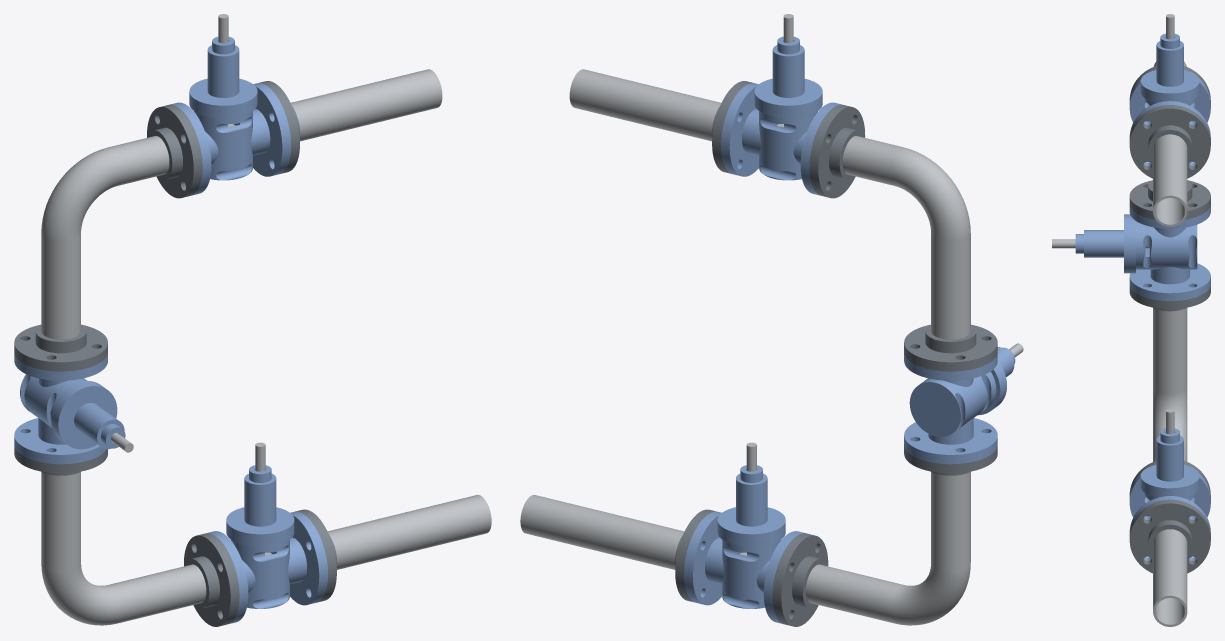
The model's file is step_34.glb.
The picture shows the model from 3 angles, left to right: view 1: azimuth 30°, elevation 25°; view 2: azimuth 150°, elevation 25°; view 3: azimuth 270°, elevation 25°; orthographic projection. The views are drawn at different scales.
Visible parts, largest first — view 1: part__body top valve, part__body bottom valve, part__bottom pipe, outlet, 360 long, part__top pipe, outlet, 335 long, part__body riser valve, part__bend 2 (top), part__riser pipe, upper, 230 long, part__riser pipe, lower, 70 long, part__bonnet riser valve, part__bottom pipe, inlet, 210 long, part__flange bottom, inlet, part__flange top, inlet (+8 smaller); view 2: part__body riser valve, part__body bottom valve, part__body top valve, part__bottom pipe, outlet, 360 long, part__top pipe, outlet, 335 long, part__bend 2 (top), part__riser pipe, upper, 230 long, part__riser pipe, lower, 70 long, part__bottom pipe, inlet, 210 long, part__flange bottom, inlet, part__flange top, inlet, part__flange riser, outlet (+7 smaller); view 3: part__body riser valve, part__flange top, outlet, part__flange bottom, outlet, part__bottom pipe, outlet, 360 long, part__top pipe, outlet, 335 long, part__riser pipe, lower, 70 long, part__bonnet bottom valve, part__bonnet top valve, part__body top valve, part__body bottom valve, part__bonnet riser valve, part__flange riser, outlet (+5 smaller).
Part boxes in pixels (bbox=[...]): part__body top valve: bbox=[170, 83, 291, 195]; part__body bottom valve: bbox=[207, 511, 327, 623]; part__bottom pipe, outlet, 360 long: bbox=[327, 495, 491, 569]; part__top pipe, outlet, 335 long: bbox=[291, 69, 442, 141]; part__body riser valve: bbox=[14, 353, 107, 464]; part__bend 2 (top): bbox=[41, 147, 122, 241]; part__riser pipe, upper, 230 long: bbox=[41, 234, 80, 339]; part__riser pipe, lower, 70 long: bbox=[41, 472, 80, 571]; part__bonnet riser valve: bbox=[55, 383, 125, 449]; part__bottom pipe, inlet, 210 long: bbox=[109, 564, 206, 622]; part__flange bottom, inlet: bbox=[184, 533, 239, 626]; part__flange top, inlet: bbox=[147, 104, 202, 198]; part__body riser valve: bbox=[904, 352, 1003, 464]; part__body bottom valve: bbox=[684, 511, 805, 623]; part__body top valve: bbox=[721, 83, 841, 195]; part__bottom pipe, outlet, 360 long: bbox=[520, 495, 684, 569]; part__top pipe, outlet, 335 long: bbox=[569, 69, 721, 141]; part__bend 2 (top): bbox=[889, 147, 970, 241]; part__riser pipe, upper, 230 long: bbox=[931, 233, 970, 339]; part__riser pipe, lower, 70 long: bbox=[931, 472, 970, 571]; part__bottom pipe, inlet, 210 long: bbox=[805, 564, 903, 623]; part__flange bottom, inlet: bbox=[772, 533, 828, 626]; part__flange top, inlet: bbox=[809, 104, 865, 198]; part__flange riser, outlet: bbox=[904, 324, 997, 371]; part__body riser valve: bbox=[1129, 205, 1210, 301]; part__flange top, outlet: bbox=[1129, 105, 1210, 178]; part__flange bottom, outlet: bbox=[1129, 499, 1210, 573]; part__bottom pipe, outlet, 360 long: bbox=[1153, 529, 1187, 626]; part__top pipe, outlet, 335 long: bbox=[1153, 134, 1187, 226]; part__riser pipe, lower, 70 long: bbox=[1153, 308, 1187, 393]; part__bonnet bottom valve: bbox=[1140, 428, 1199, 493]; part__bonnet top valve: bbox=[1140, 33, 1199, 98]; part__body top valve: bbox=[1129, 69, 1210, 166]; part__body bottom valve: bbox=[1129, 464, 1210, 560]; part__bonnet riser valve: bbox=[1075, 214, 1129, 273]; part__flange riser, outlet: bbox=[1129, 180, 1210, 219].
Size of the model in its own units: 937 by 1172 by 322.
